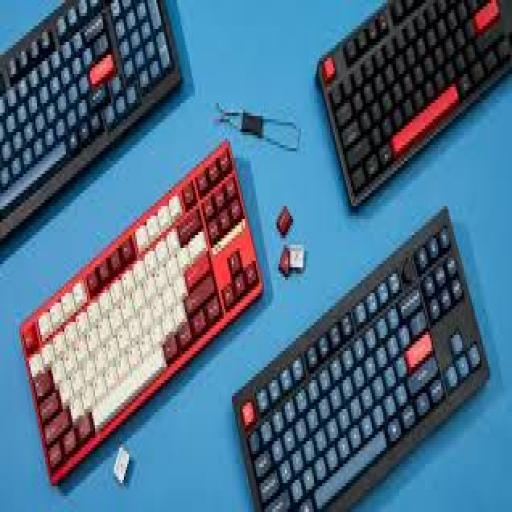keyboard: (21, 142, 261, 480), (235, 206, 488, 509), (0, 0, 179, 238), (317, 0, 510, 203)
